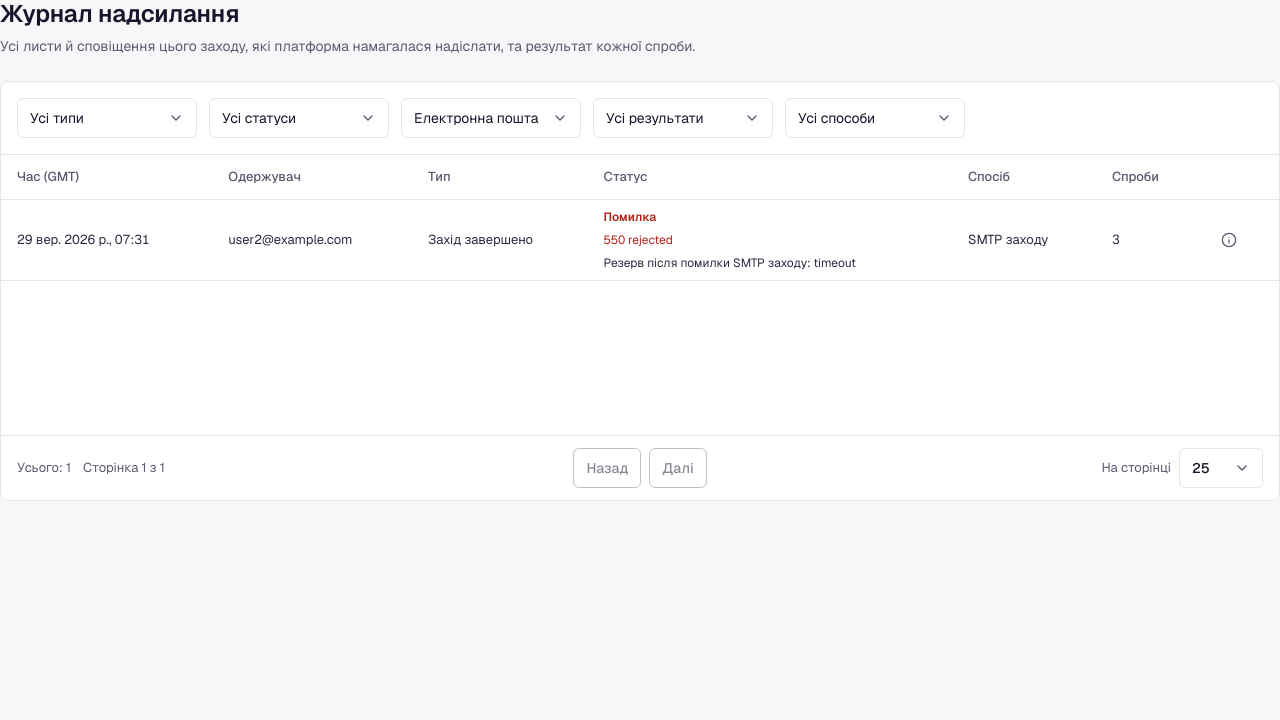
Журнал надсилання › opens the details of a row: recipient, attempts, transport and errors
Step 1. Click the button named "Деталі надсилання: Захід завершено" → click(1229, 240), box x1=1213 y1=224 x2=1245 y2=256
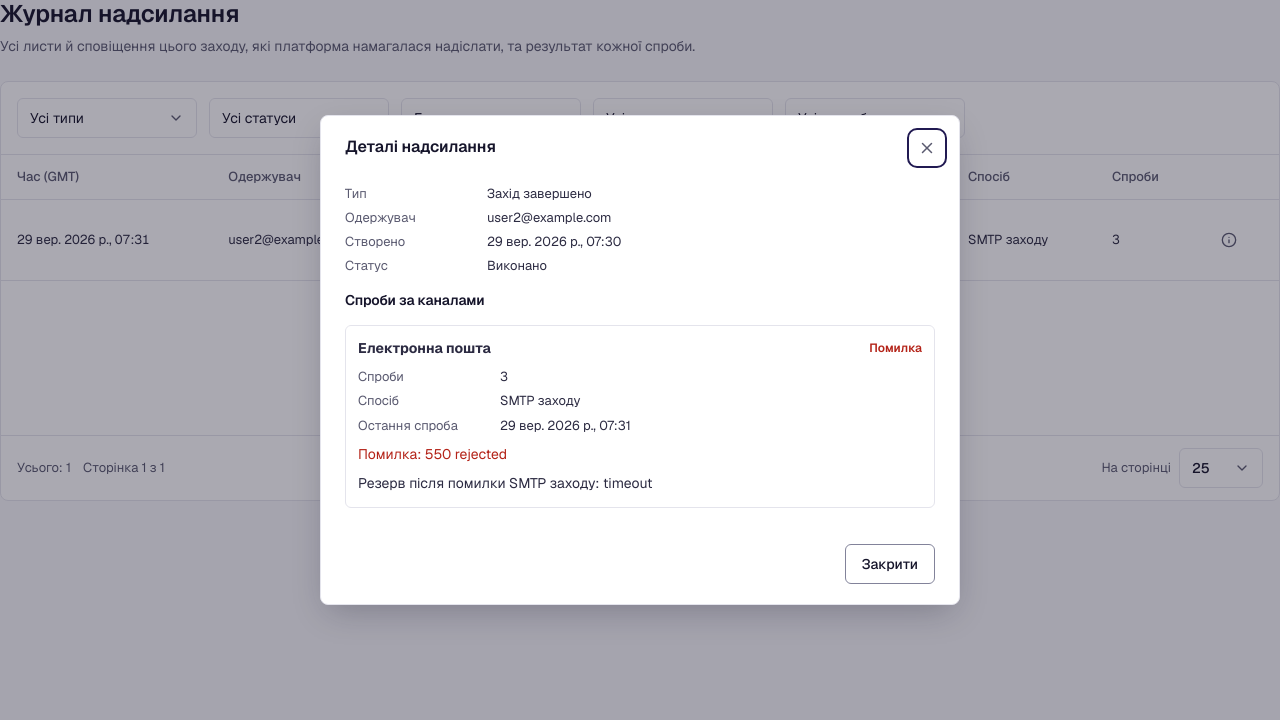
Check: the text "Помилка: 550 rejected" is shown, box x1=358 y1=445 x2=507 y2=463
Check: the text "SMTP заходу" is shown, box x1=500 y1=392 x2=580 y2=409
Check: the text "3" is shown, box x1=500 y1=368 x2=508 y2=385
